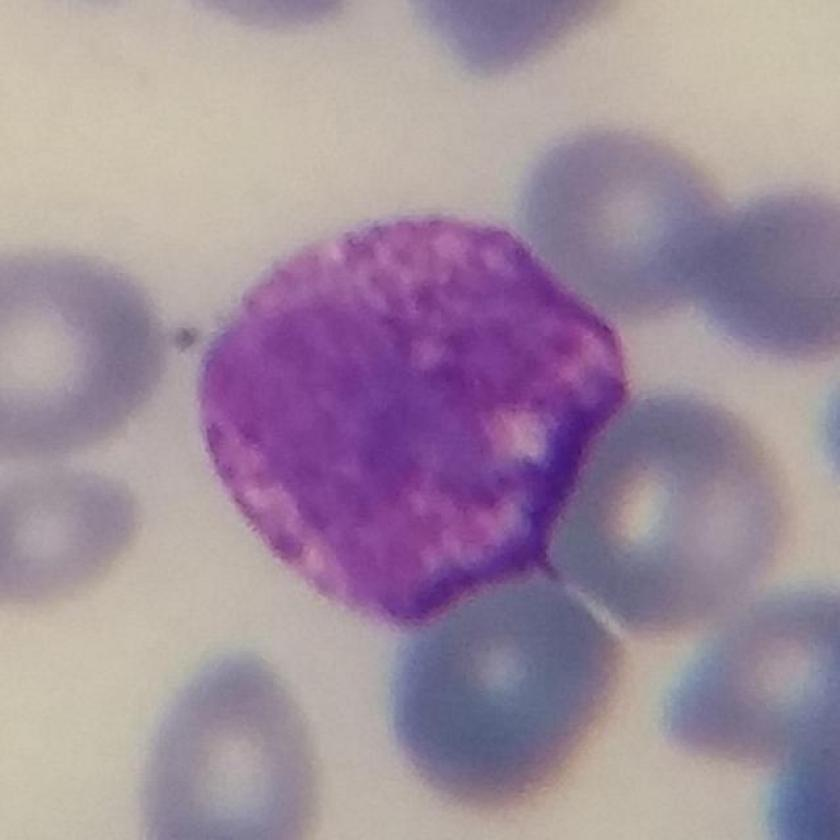basophil: (189, 202, 640, 631)
